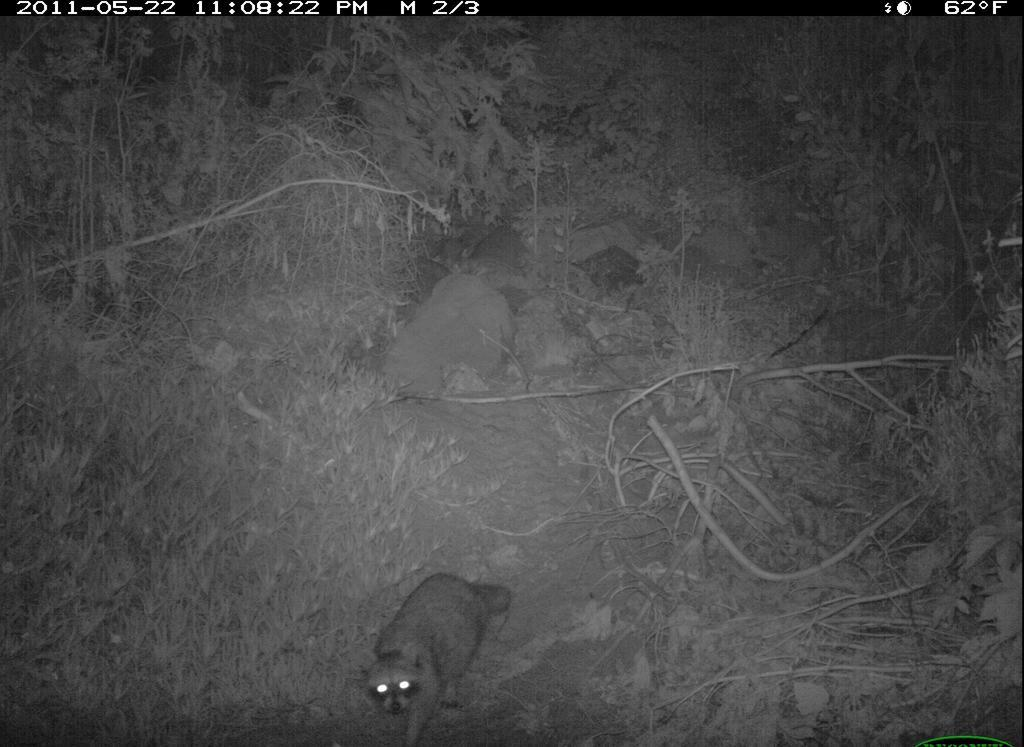raccoon: (358, 569, 519, 747)
